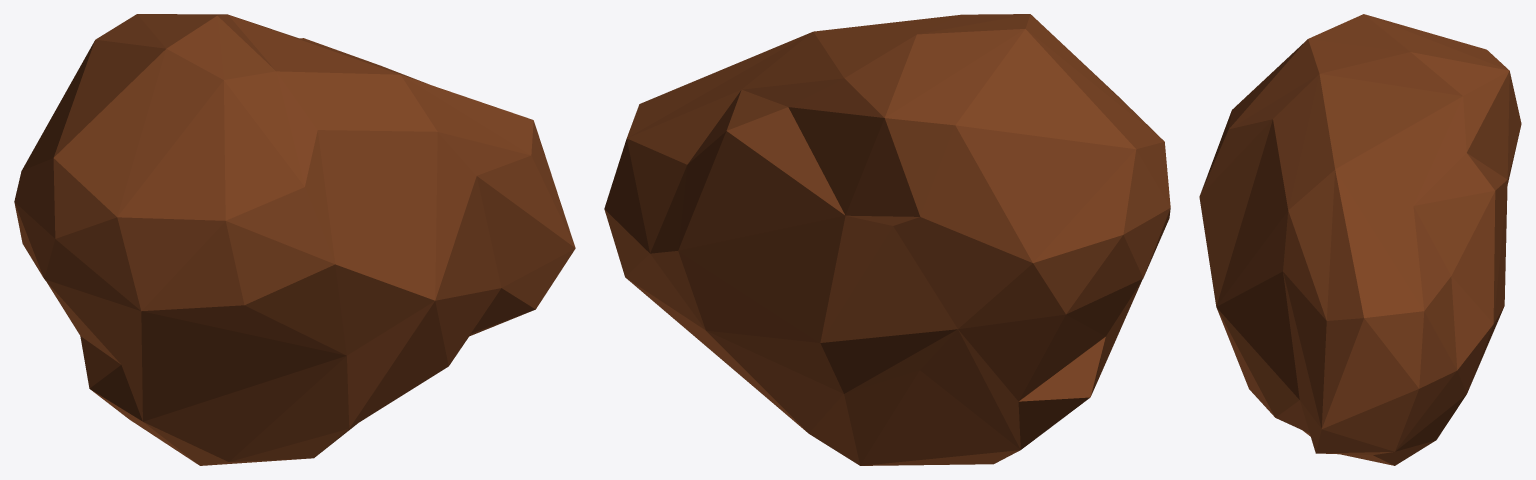
The model's file is Asteroide3.fbx.
3 views of the same model, side by side, from view 1: azimuth 30°, elevation 25°; view 2: azimuth 150°, elevation 25°; view 3: azimuth 270°, elevation 25° (orthographic). The views are drawn at different scales.
Parts seen in each view (by area): view 1: Asteroide3; view 2: Asteroide3; view 3: Asteroide3.
Boxes of the visible parts, <box> form: Asteroide3: <box>14,14,575,465</box>; Asteroide3: <box>604,14,1170,465</box>; Asteroide3: <box>1199,14,1521,465</box>.
Bounding box in the file's own units: 5.19 × 4.26 × 3.18.
